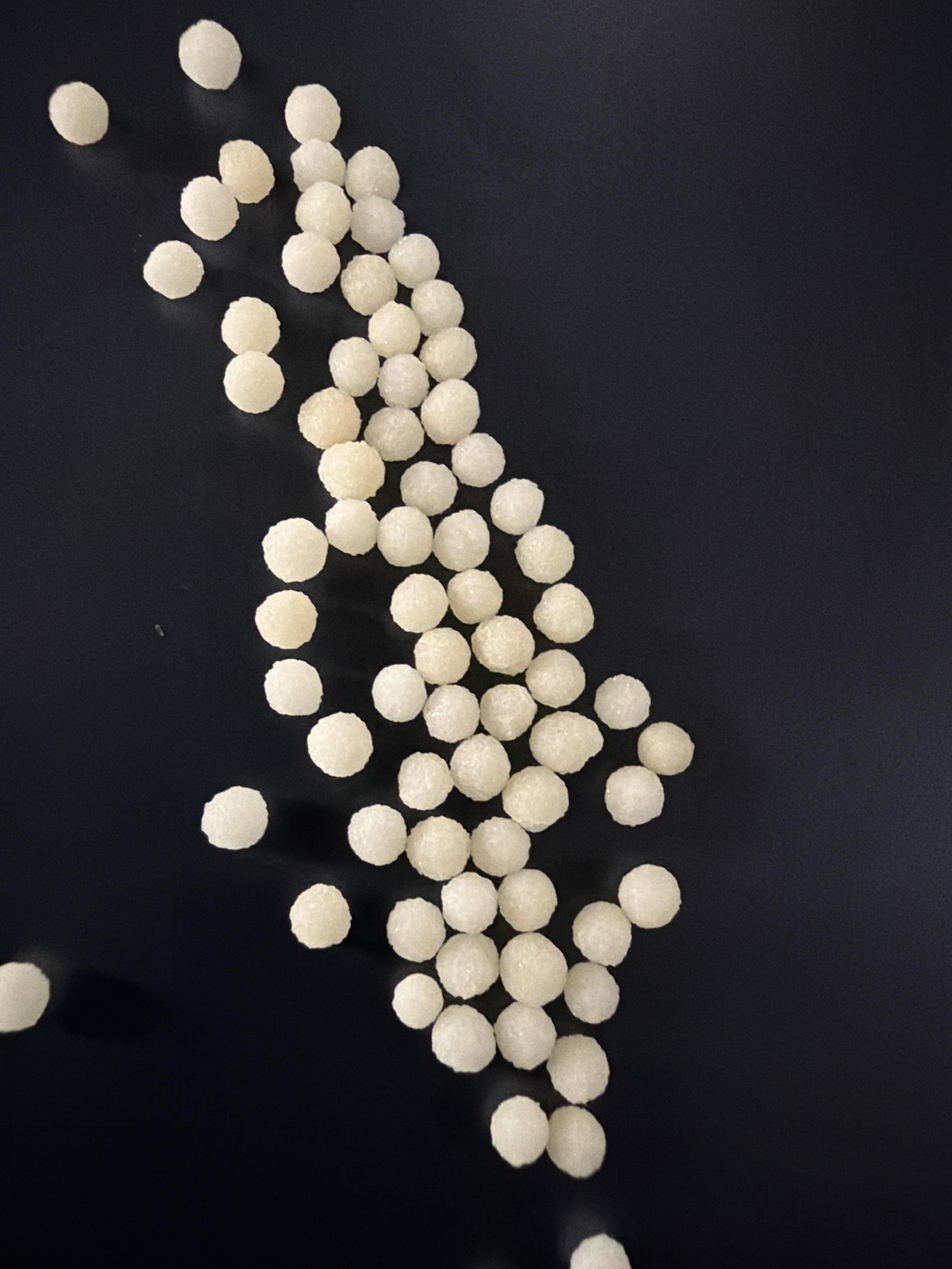pill: (500, 932, 567, 1007), (530, 711, 603, 774), (502, 766, 569, 832), (431, 1005, 495, 1073), (179, 20, 241, 90), (547, 1105, 605, 1179), (262, 517, 327, 583), (307, 712, 372, 778), (201, 786, 268, 850), (547, 1035, 609, 1104), (494, 1001, 556, 1069), (436, 933, 498, 1000), (490, 1096, 548, 1167), (406, 816, 469, 881), (450, 733, 510, 801), (618, 864, 681, 928), (290, 883, 351, 949), (318, 440, 385, 500), (298, 386, 360, 449), (471, 615, 535, 676), (421, 379, 480, 445), (48, 82, 109, 145), (223, 351, 284, 414), (386, 898, 445, 963), (572, 901, 631, 966), (255, 589, 317, 650), (533, 582, 594, 643), (498, 869, 557, 932), (180, 176, 238, 240), (470, 816, 530, 877), (525, 649, 586, 709), (281, 231, 340, 293), (348, 804, 407, 866), (605, 765, 664, 826), (143, 240, 204, 299), (219, 139, 274, 204), (0, 962, 50, 1033), (340, 255, 397, 317), (564, 961, 620, 1024), (434, 509, 490, 572), (515, 525, 574, 584), (390, 574, 448, 634), (441, 872, 497, 934), (221, 296, 280, 354), (377, 506, 433, 567), (295, 182, 350, 244), (264, 658, 322, 716), (364, 406, 424, 462), (423, 684, 479, 744), (480, 683, 537, 741), (371, 663, 427, 722), (414, 627, 470, 685), (350, 195, 405, 254), (400, 460, 457, 516), (285, 85, 340, 143), (368, 296, 420, 357), (421, 326, 477, 382), (398, 752, 452, 810), (638, 721, 694, 776), (448, 568, 503, 624), (594, 674, 650, 729), (490, 479, 544, 536), (324, 499, 378, 556), (328, 337, 379, 397), (451, 432, 505, 488), (411, 279, 463, 336), (345, 146, 399, 200), (291, 138, 345, 192), (392, 974, 444, 1029), (389, 233, 440, 289), (378, 352, 429, 408), (570, 1233, 631, 1269)
